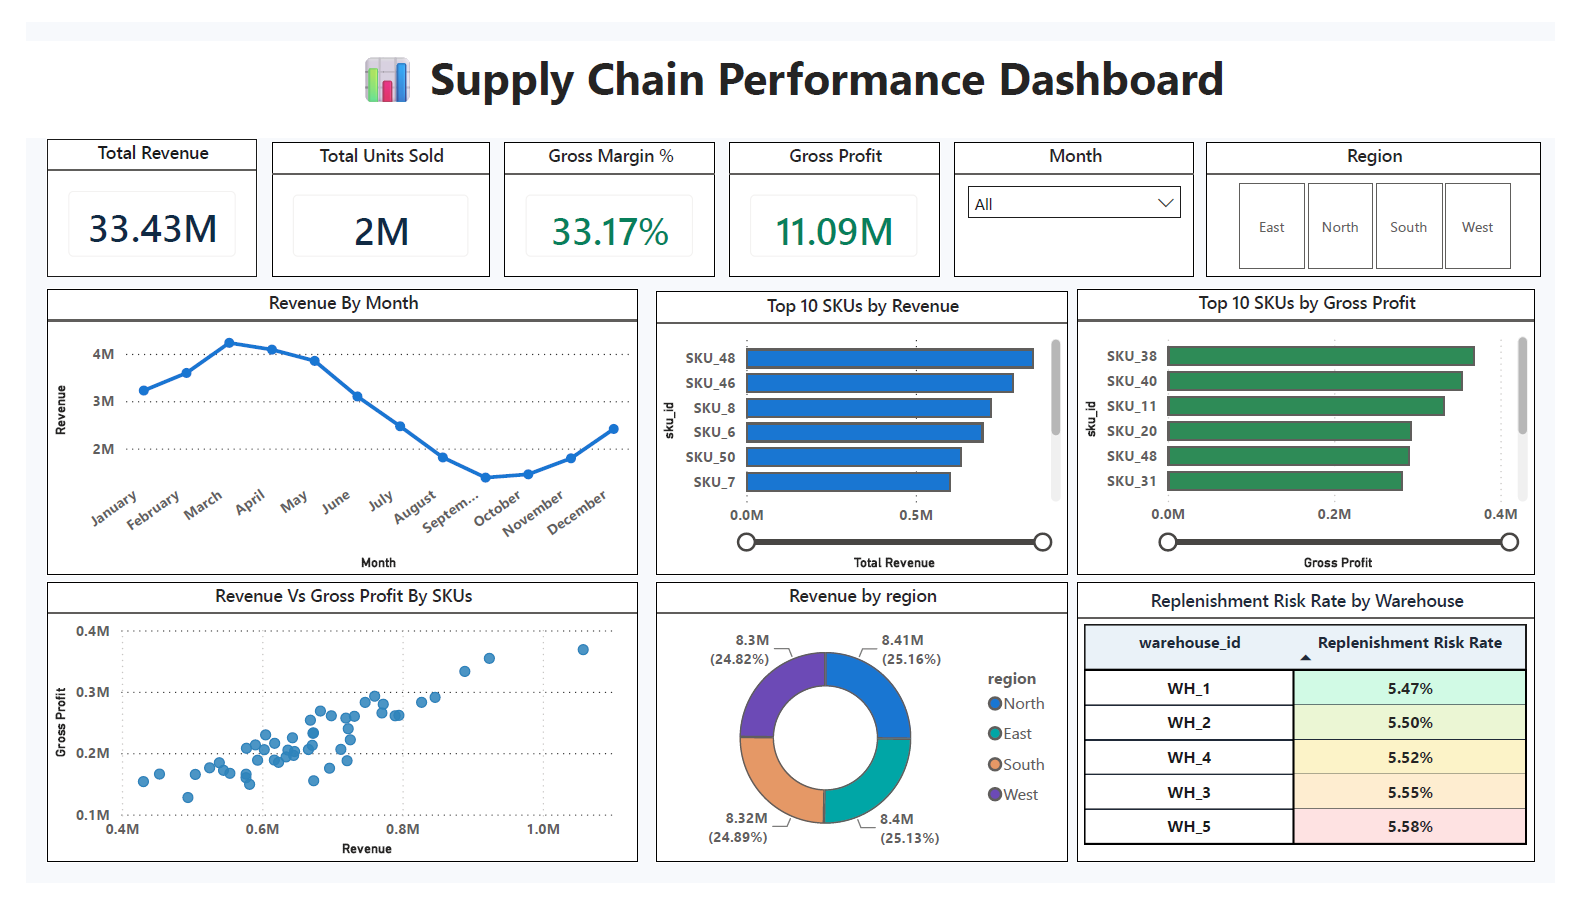

The dashboard page shown, as its layout file describes it:
{"tool":"powerbi","page":{"name":"Page 1","canvas":[1280,720],"ordinal":0},"visuals":[{"type":"cardVisual","title":"Total Revenue","fields":{"Data":["supply_chain_cleaned.Total Revenue"]},"box":[16.7,96.7,176.7,116.7],"z":0},{"type":"cardVisual","title":"Total Units  Sold","fields":{"Data":["Sum(supply_chain_cleaned.units_sold)"]},"box":[205,100,183.3,113.3],"z":1000},{"type":"cardVisual","title":"Gross Margin %","fields":{"Data":["supply_chain_cleaned.Gross Margin %"]},"box":[400,100,176.7,113.3],"z":2000},{"type":"cardVisual","title":"Gross Profit","fields":{"Data":["Sum(supply_chain_cleaned.gross_profit)"]},"box":[588.3,100,176.7,113.3],"z":3000},{"type":"slicer","title":"Month ","fields":{"Values":["supply_chain_cleaned.month_name"]},"box":[776.7,100,201.7,113.3],"z":4000},{"type":"slicer","title":"Region","fields":{"Values":["supply_chain_cleaned.region"]},"box":[988,100.2,279.9,112.5],"z":5000},{"type":"lineChart","title":"Revenue By Month","fields":{"Y":["Sum(supply_chain_cleaned.revenue)"],"Category":["supply_chain_cleaned.month_name"]},"box":[16.7,223.3,495,240],"z":6000},{"type":"clusteredBarChart","title":"Top 10 SKUs by Revenue","fields":{"Category":["supply_chain_cleaned.sku_id"],"Y":["supply_chain_cleaned.Total Revenue"]},"box":[526.7,225,345,238.3],"z":7000},{"type":"clusteredBarChart","title":"Top 10 SKUs by Gross Profit","fields":{"Y":["Sum(supply_chain_cleaned.gross_profit)"],"Category":["supply_chain_cleaned.sku_id"]},"box":[880,223.3,383.3,240],"z":8000},{"type":"scatterChart","title":"Revenue Vs Gross Profit By SKUs","fields":{"X":["supply_chain_cleaned.Total Revenue"],"Y":["Sum(supply_chain_cleaned.gross_profit)"],"Category":["supply_chain_cleaned.sku_id"]},"box":[16.7,468.3,495,235],"z":9000},{"type":"donutChart","title":"Revenue by region","fields":{"Category":["supply_chain_cleaned.region"],"Y":["supply_chain_cleaned.Total Revenue"]},"box":[526.7,468.3,345,235],"z":10000},{"type":"pivotTable","title":"Replenishment Risk Rate by Warehouse ","fields":{"Rows":["supply_chain_cleaned.warehouse_id"],"Values":["supply_chain_cleaned.Replenishment Risk Rate"]},"box":[880,468.3,383.3,235],"z":11000},{"type":"textbox","box":[0,16,1280,80],"z":12000}]}

Visuals, with their boxes in screenshot pixels (x1, y1, x2, y2), scaled from the page's 1280x720 canvas onto the 1580x905 screenshot:
"Total Revenue" cardVisual: 21,122,239,268
"Total Units  Sold" cardVisual: 253,126,479,268
"Gross Margin %" cardVisual: 494,126,712,268
"Gross Profit" cardVisual: 726,126,944,268
"Month " slicer: 959,126,1208,268
"Region" slicer: 1220,126,1565,267
"Revenue By Month" lineChart: 21,281,632,582
"Top 10 SKUs by Revenue" clusteredBarChart: 650,283,1076,582
"Top 10 SKUs by Gross Profit" clusteredBarChart: 1086,281,1559,582
"Revenue Vs Gross Profit By SKUs" scatterChart: 21,589,632,884
"Revenue by region" donutChart: 650,589,1076,884
"Replenishment Risk Rate by Warehouse " pivotTable: 1086,589,1559,884
textbox: 0,20,1579,121
